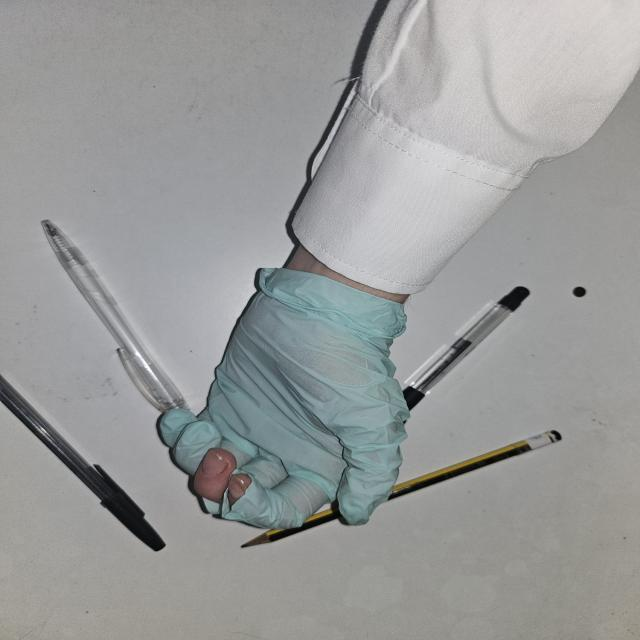gloves_damaged: (154, 265, 410, 528)
